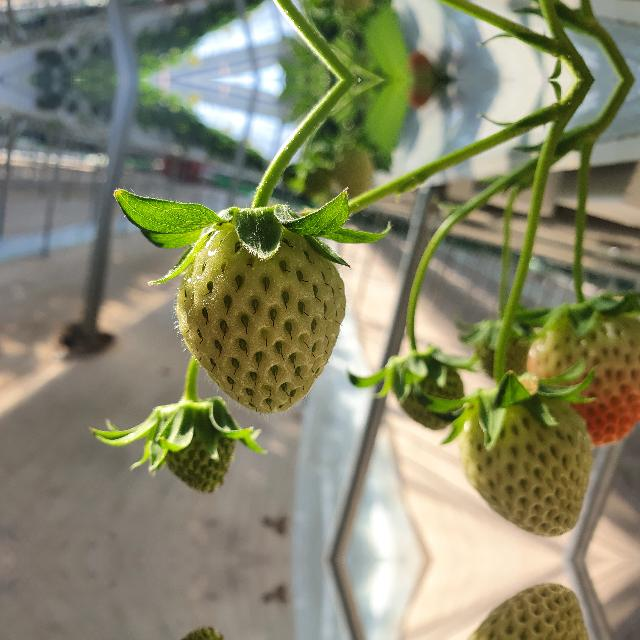Health_25: (176, 224, 346, 413)
